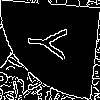Y: (25, 25, 78, 62)
